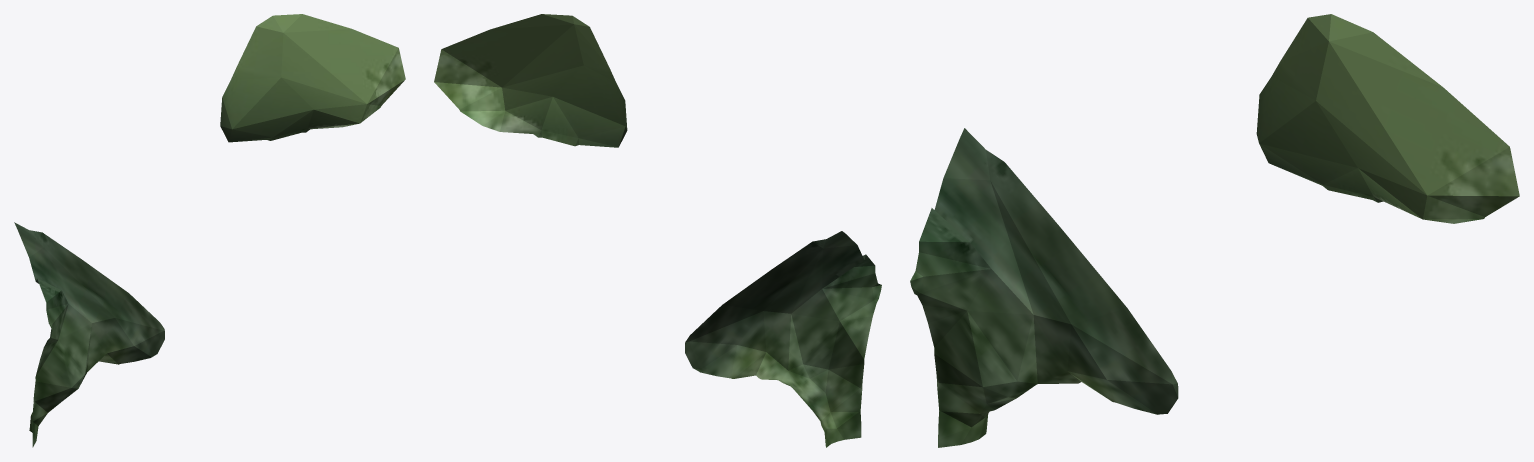
3 views of the same model, side by side, from view 1: azimuth 30°, elevation 25°; view 2: azimuth 150°, elevation 25°; view 3: azimuth 330°, elevation 25° (orthographic). The views are drawn at different scales.
Bounding box in the file's own units: 2.91 × 2.53 × 0.4944.
1 material, 1 textured.
